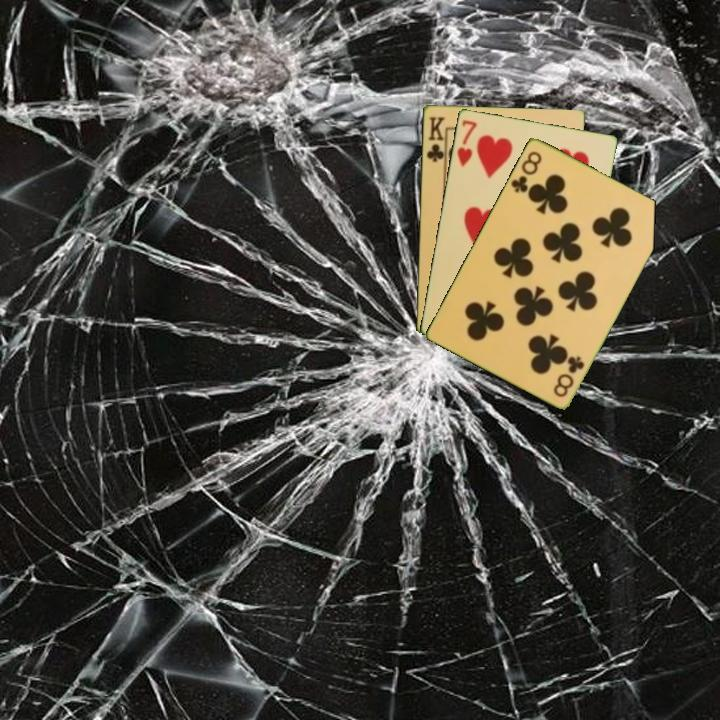7h: (453, 116, 479, 169)
8c: (507, 147, 545, 195), (550, 352, 587, 400)
Kc: (423, 113, 448, 167)
